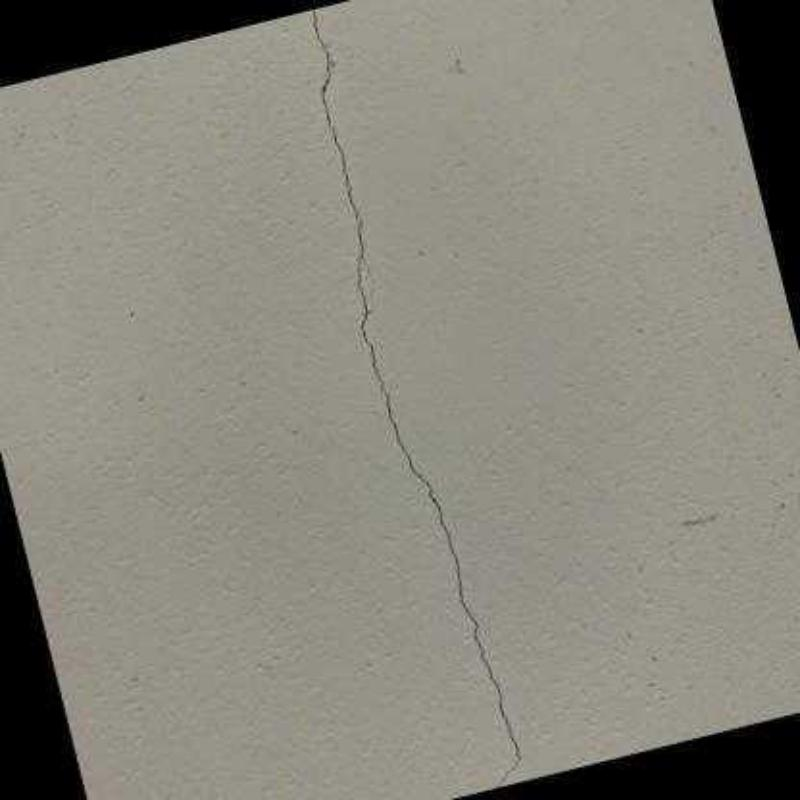pothole: (311, 9, 520, 782)
